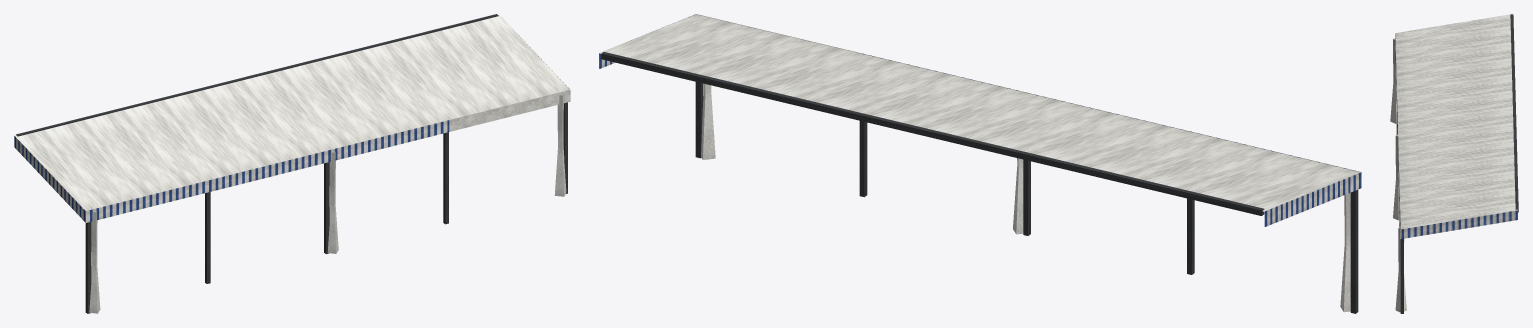
Rendered from SM_Molo_DehorsRighe_LOD2.fbx.
3 renders of one model, left to right at view 1: azimuth 30°, elevation 25°; view 2: azimuth 150°, elevation 25°; view 3: azimuth 270°, elevation 25°, orthographic. The views are drawn at different scales.
Parts seen in each view (by area): view 1: SM_Molo_DehorsRighe_LOD2; view 2: SM_Molo_DehorsRighe_LOD2; view 3: SM_Molo_DehorsRighe_LOD2.
Part boxes in pixels (<box>): SM_Molo_DehorsRighe_LOD2: <box>14,14,570,313</box>; SM_Molo_DehorsRighe_LOD2: <box>599,14,1361,313</box>; SM_Molo_DehorsRighe_LOD2: <box>1390,14,1518,313</box>.
Bounding box in the file's own units: 1220 × 337 × 304.
Materials: 2 (2 with a texture image).
